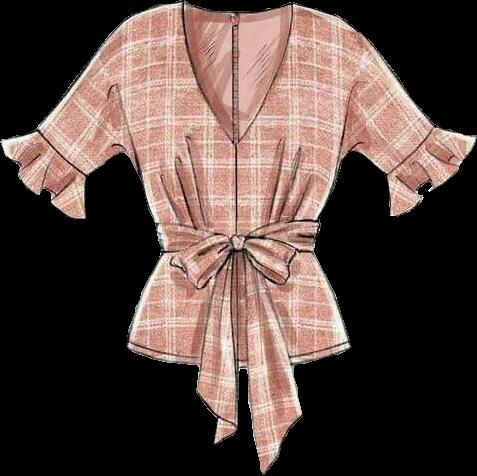Bodice: (120, 0, 367, 368)
Neckline: (180, 0, 297, 148), (157, 245, 314, 255)
Sleeve: (0, 23, 136, 218), (339, 39, 476, 215)
Sleeveline: (338, 37, 368, 163), (114, 22, 138, 170)
Waistline: (126, 345, 349, 370)
